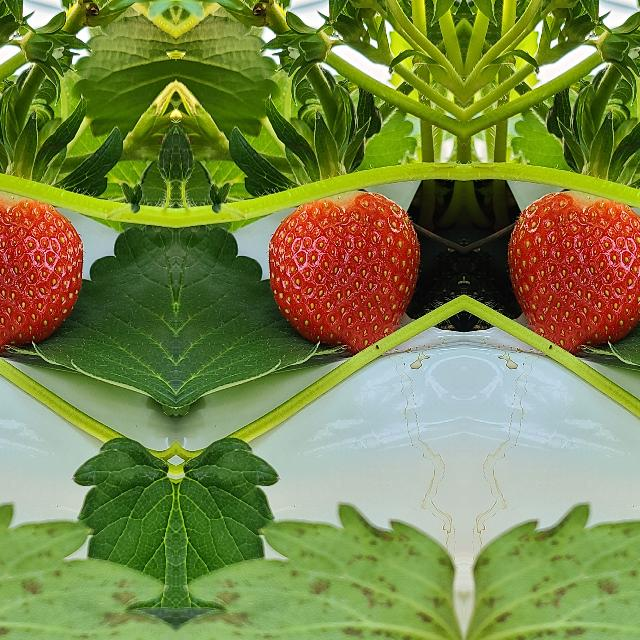Health_100: (264, 190, 421, 356), (505, 190, 640, 356), (0, 190, 86, 356)
